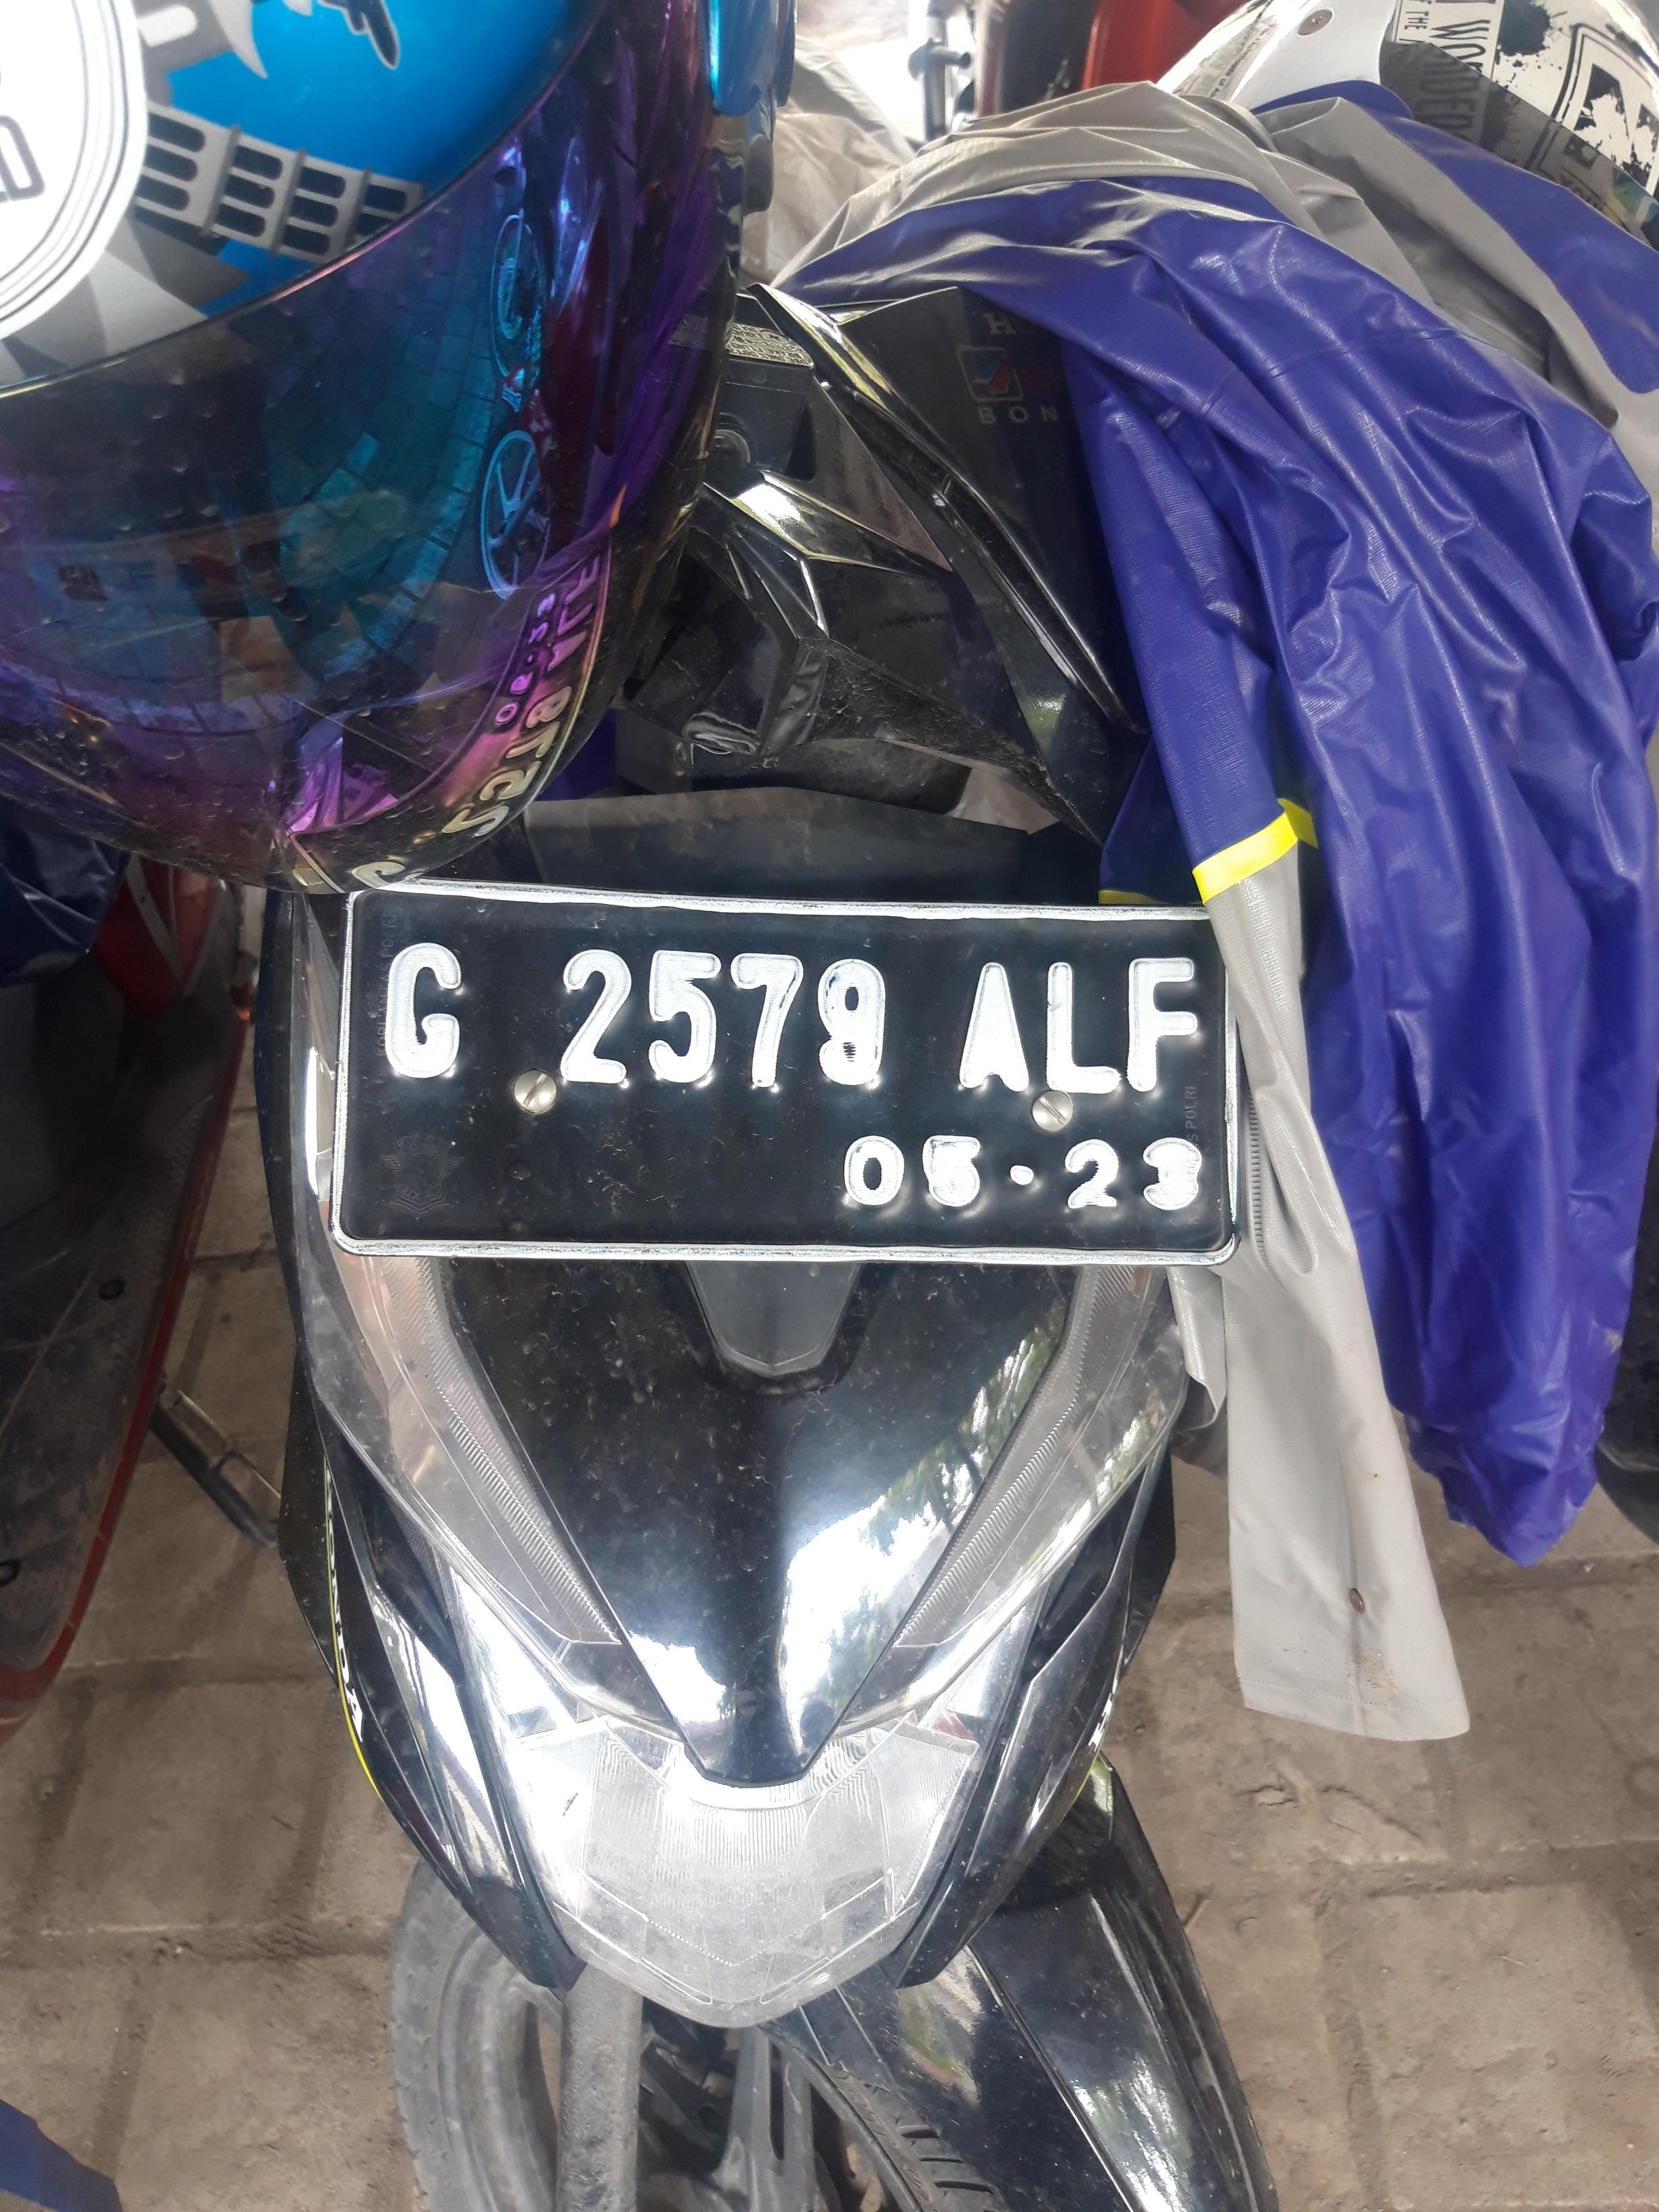clone-license-plate: (330, 875, 1247, 1280)
